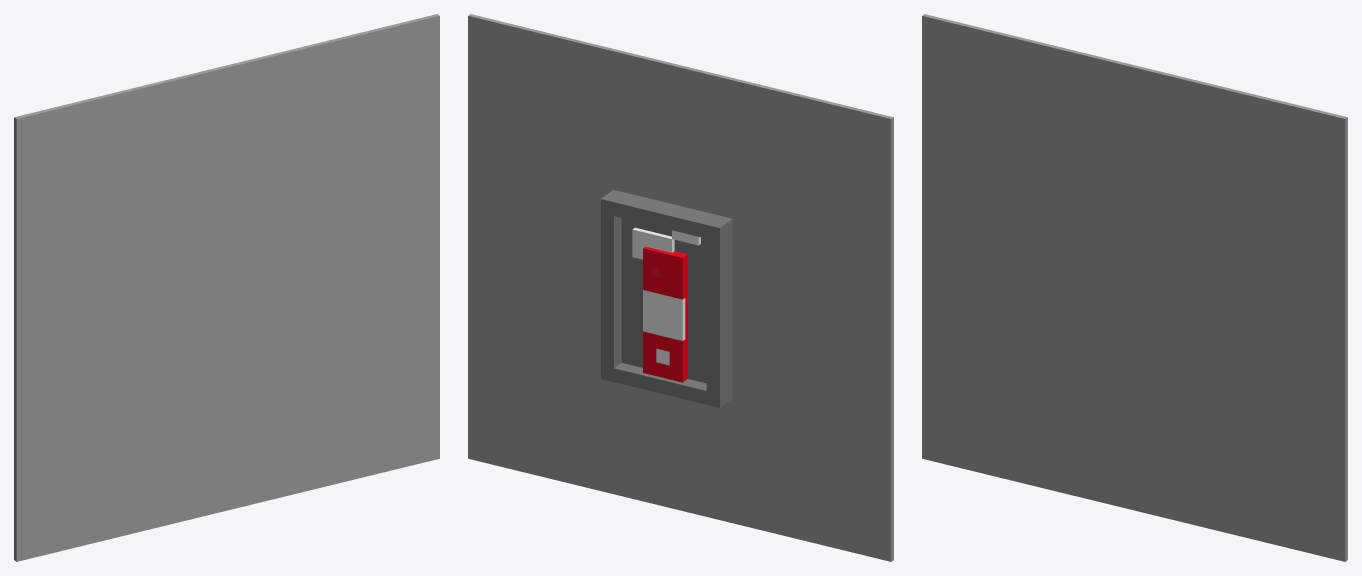
File: ExtinguisherWall.fbx
The picture shows the model from 3 angles, left to right: view 1: azimuth 30°, elevation 25°; view 2: azimuth 150°, elevation 25°; view 3: azimuth 330°, elevation 25°; orthographic projection.
Parts seen in each view (by area): view 1: Extinguisher; view 2: Extinguisher; view 3: Extinguisher.
Boxes of the visible parts, box(x1,y1,x2,y2) form: Extinguisher: box(14, 14, 439, 561); Extinguisher: box(468, 14, 893, 561); Extinguisher: box(922, 14, 1347, 561).
Size of the model in its own units: 38.1 by 610 by 610.
Materials: 1 (1 with a texture image).
